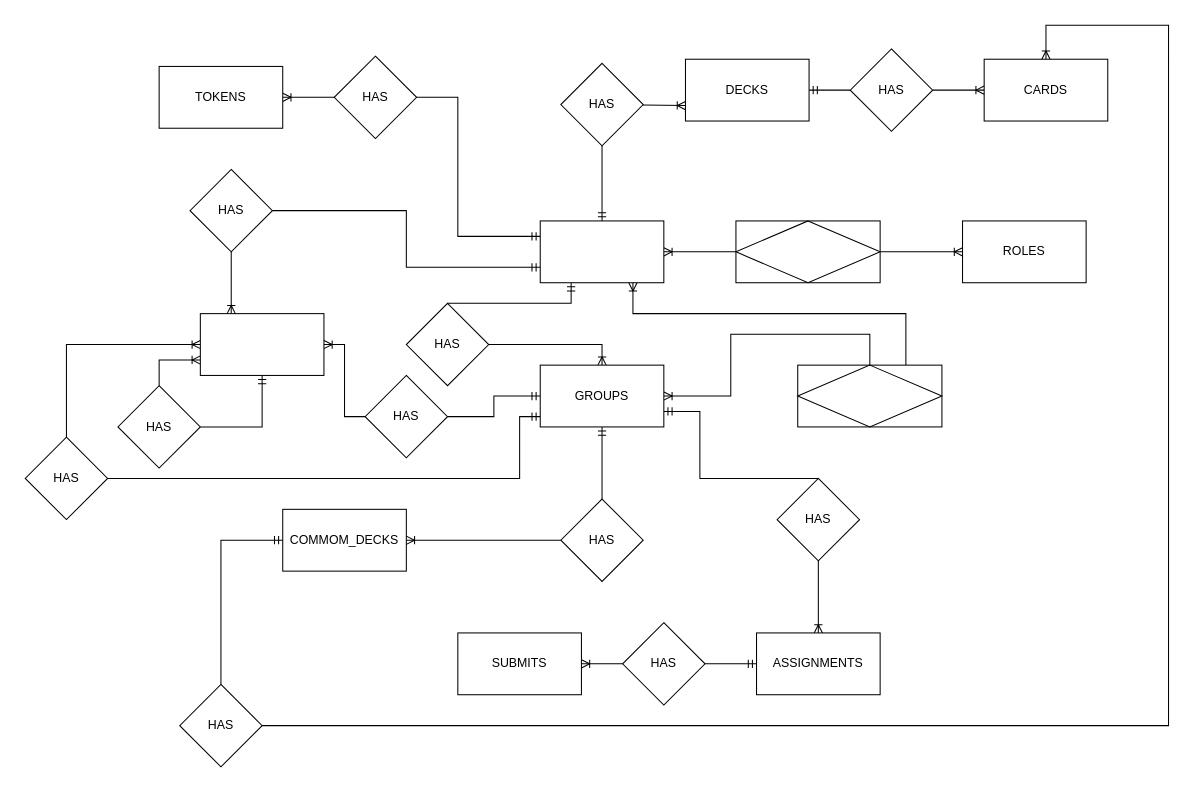
Image size: 1195x785. Some labels were removed from this diagram. The shapes that lost their labels are listed below. From the top down, each one's centre as x and y in pixels, then its label:
At point (601, 251): "USERS".
At point (807, 251): "USERS_ROLES".
At point (261, 344): "COMMENTS".
At point (869, 395): "USER_GROUP".
